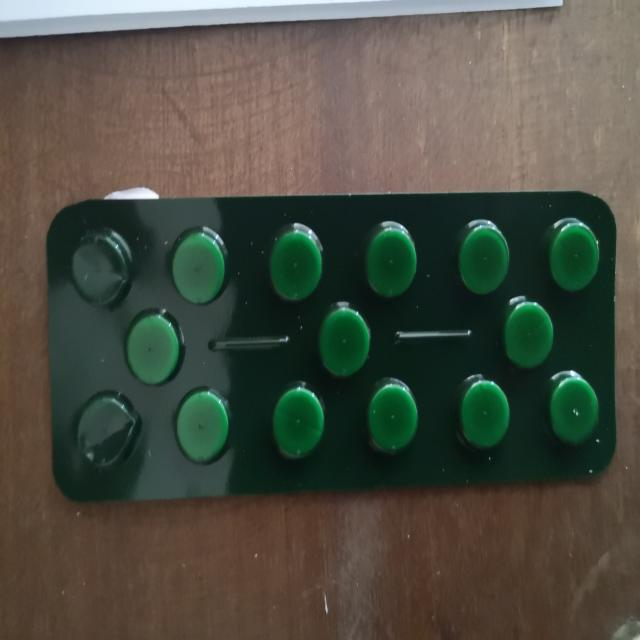Empty: (70, 392, 146, 476), (61, 228, 139, 307)
Pill: (541, 210, 606, 294), (266, 376, 328, 464), (164, 225, 232, 305), (454, 369, 516, 455), (360, 216, 422, 301), (261, 221, 325, 302), (452, 214, 513, 298), (169, 388, 233, 466), (120, 310, 186, 385), (496, 294, 556, 371), (316, 301, 374, 380), (366, 380, 424, 454), (546, 373, 602, 447)
